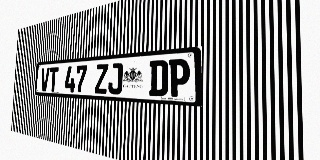4: (65, 66, 76, 93)
7: (75, 65, 87, 93)
D: (149, 60, 168, 97)
J: (108, 63, 123, 95)
P: (168, 58, 190, 97)
T: (49, 67, 59, 92)
V: (40, 68, 50, 91)
Z: (94, 64, 108, 94)
